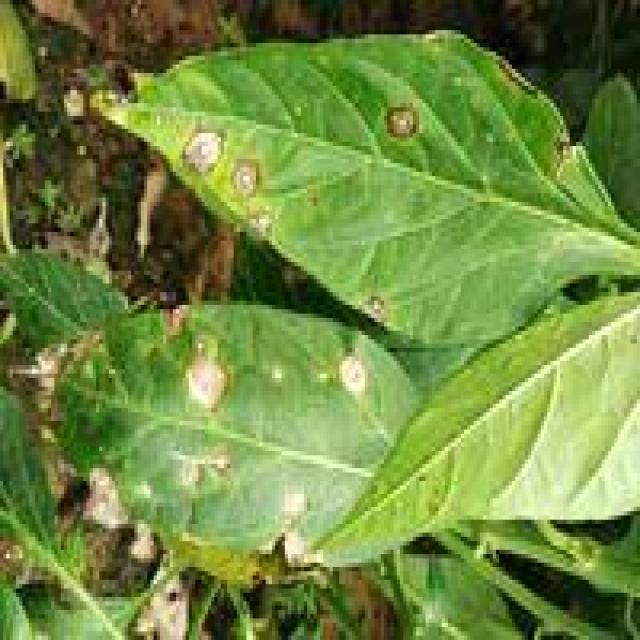bercak_daun: (161, 21, 581, 327), (59, 296, 402, 557)
